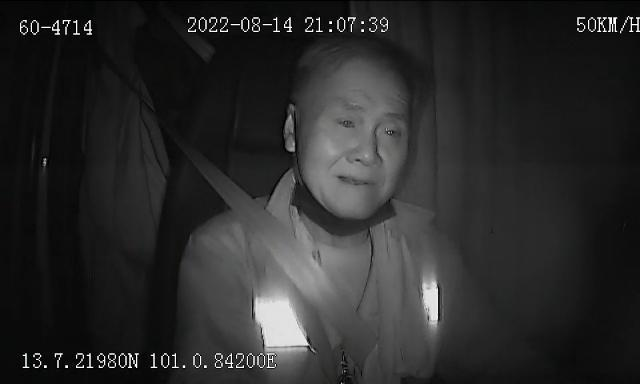SafeDriving: (373, 114, 409, 148), (328, 106, 364, 138)
Seatbelt: (182, 148, 382, 378)
